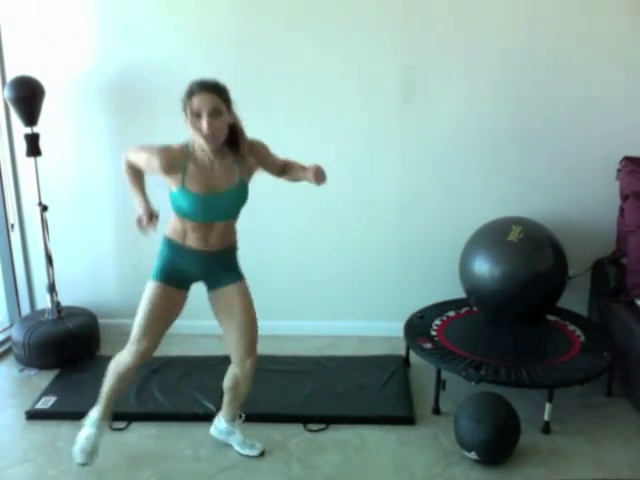person: (73, 79, 328, 466)
